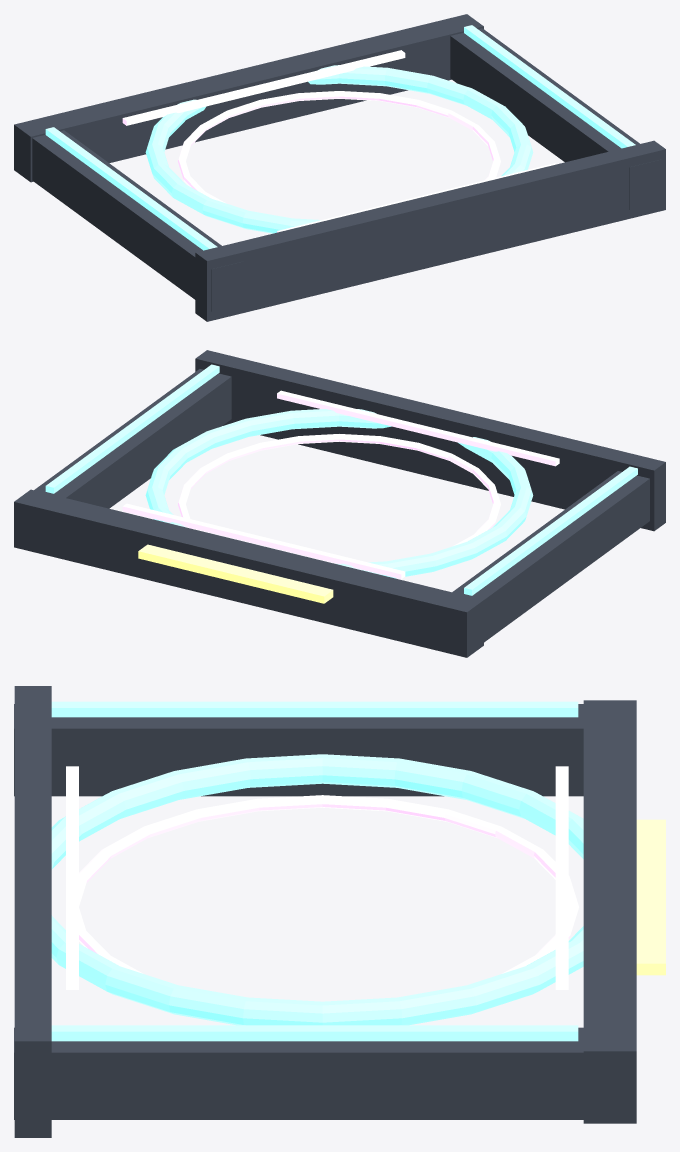
The model's file is interact_end_portal.glb.
3 renders of one model, top to bottom at view 1: azimuth 30°, elevation 25°; view 2: azimuth 150°, elevation 25°; view 3: azimuth 270°, elevation 25°, orthographic. The views are drawn at different scales.
Visible parts, largest first — view 1: interact_end_portal; view 2: interact_end_portal; view 3: interact_end_portal.
Boxes of the visible parts, <box> form: interact_end_portal: <box>14,14,665,321</box>; interact_end_portal: <box>14,350,665,657</box>; interact_end_portal: <box>14,686,665,1137</box>.
Bounding box in the file's own units: 7.9 × 1 × 6.12.
